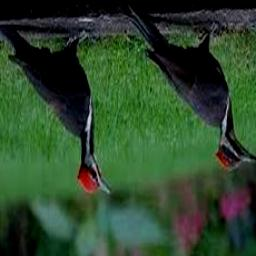Woodpecker: (125, 6, 256, 172), (0, 27, 112, 196)
